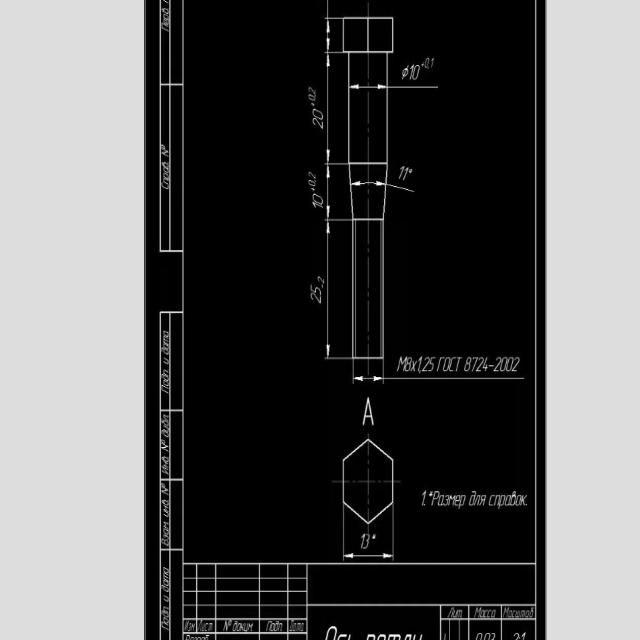marking_line: (324, 217, 351, 360), (323, 49, 348, 166), (343, 524, 395, 561), (324, 161, 349, 222), (350, 55, 386, 93), (322, 16, 343, 56), (352, 360, 385, 384), (342, 513, 353, 562), (384, 511, 394, 563), (351, 181, 386, 187)
numeric: (309, 294, 323, 305), (313, 107, 324, 120), (311, 285, 323, 296), (313, 193, 324, 204), (312, 118, 324, 128), (412, 64, 419, 81), (402, 167, 410, 181), (399, 163, 405, 181), (409, 62, 414, 81), (312, 203, 323, 211), (424, 56, 430, 70), (308, 85, 317, 93), (307, 94, 316, 101), (430, 57, 435, 67)
special_symbol: (401, 65, 410, 81), (372, 531, 376, 542)
